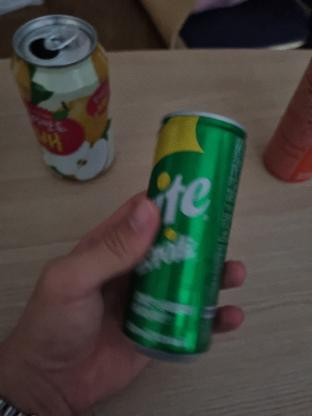Can: (126, 114, 252, 346), (10, 13, 108, 191)
